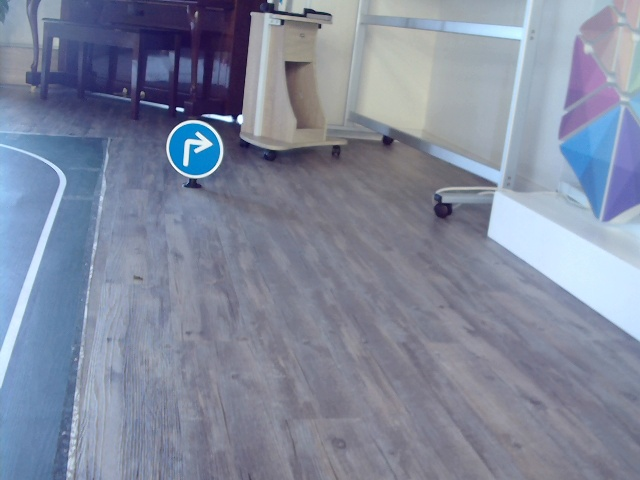turn_right: (181, 134, 212, 166)
